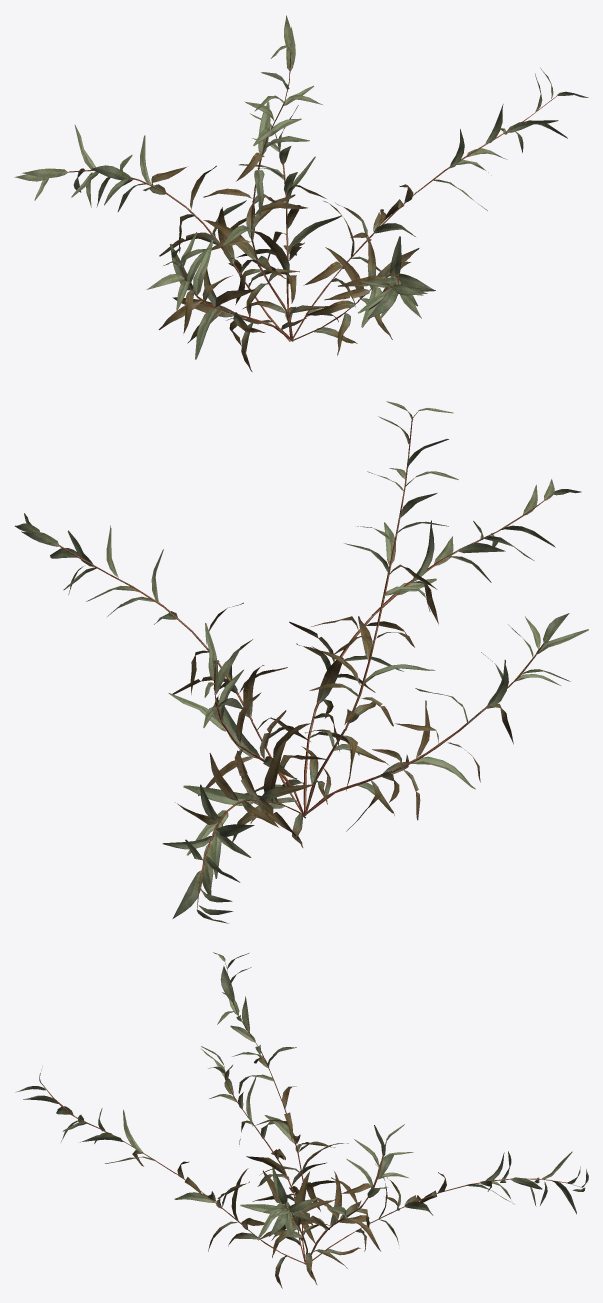
The model's file is shrub_b.glb.
The picture shows the model from 3 angles, top to bottom: view 1: azimuth 30°, elevation 25°; view 2: azimuth 150°, elevation 25°; view 3: azimuth 270°, elevation 25°; orthographic projection. The views are drawn at different scales.
Visible parts, largest first — view 1: shrub_b; view 2: shrub_b; view 3: shrub_b.
Part boxes in pixels (x1,y1,x2,y2): shrub_b: (14,15,588,371); shrub_b: (14,401,588,923); shrub_b: (15,952,588,1288).
Bounding box in the file's own units: 2.28 × 1.7 × 2.95.
Materials: 1 (1 with a texture image).
